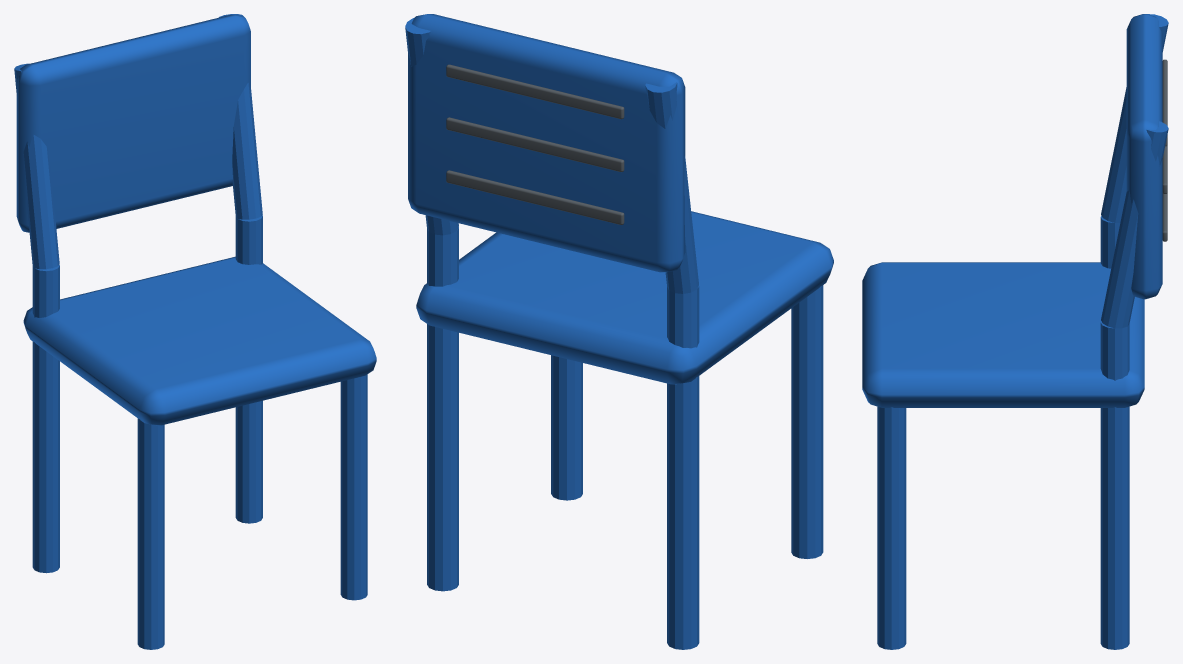
The model's file is plastic_chair_plastic_blue.glb.
3 views of the same model, side by side, from view 1: azimuth 30°, elevation 25°; view 2: azimuth 150°, elevation 25°; view 3: azimuth 270°, elevation 25° (orthographic). The views are drawn at different scales.
Visible parts, largest first — view 1: seat, backrest, rear leg, front leg, front leg.001, rear leg.001, back upright, back upright.001; view 2: backrest, seat, rear leg, rear leg.001, front leg, front leg.001, back upright, back slot.002, back slot, back slot.001, back upright.001; view 3: seat, backrest, rear leg.001, front leg.001, back upright.001, back upright, rear leg.
Part boxes in pixels (x1=…): seat: x1=23, y1=256, x2=376, y2=425; backrest: x1=16, y1=15, x2=250, y2=232; rear leg: x1=32, y1=265, x2=59, y2=573; front leg: x1=137, y1=418, x2=164, y2=649; front leg.001: x1=340, y1=374, x2=367, y2=600; rear leg.001: x1=235, y1=215, x2=262, y2=523; back upright: x1=14, y1=63, x2=59, y2=269; back upright.001: x1=219, y1=14, x2=262, y2=219; backrest: x1=408, y1=14, x2=685, y2=272; seat: x1=416, y1=211, x2=833, y2=384; rear leg: x1=667, y1=286, x2=699, y2=649; rear leg.001: x1=427, y1=227, x2=458, y2=591; front leg: x1=791, y1=285, x2=823, y2=558; front leg.001: x1=551, y1=355, x2=582, y2=500; back upright: x1=645, y1=82, x2=698, y2=293; back slot.002: x1=446, y1=64, x2=624, y2=119; back slot: x1=446, y1=170, x2=624, y2=224; back slot.001: x1=446, y1=117, x2=624, y2=171; back upright.001: x1=405, y1=18, x2=458, y2=235; seat: x1=862, y1=262, x2=1144, y2=407; backrest: x1=1126, y1=14, x2=1162, y2=299; rear leg.001: x1=1100, y1=321, x2=1129, y2=649; front leg.001: x1=877, y1=406, x2=906, y2=649; back upright.001: x1=1101, y1=121, x2=1168, y2=328; back upright: x1=1101, y1=14, x2=1168, y2=222; rear leg: x1=1100, y1=216, x2=1120, y2=268.
Size of the model in its own units: 0.44 by 0.88 by 0.4666.
